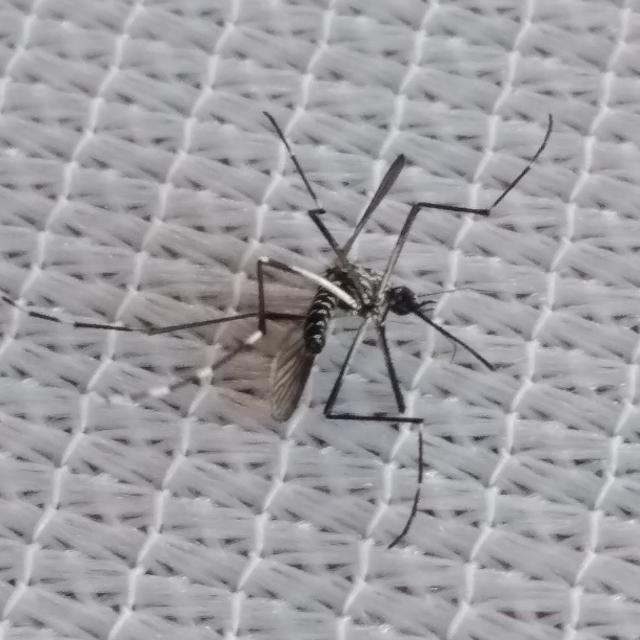albopictus: (51, 73, 614, 602)
